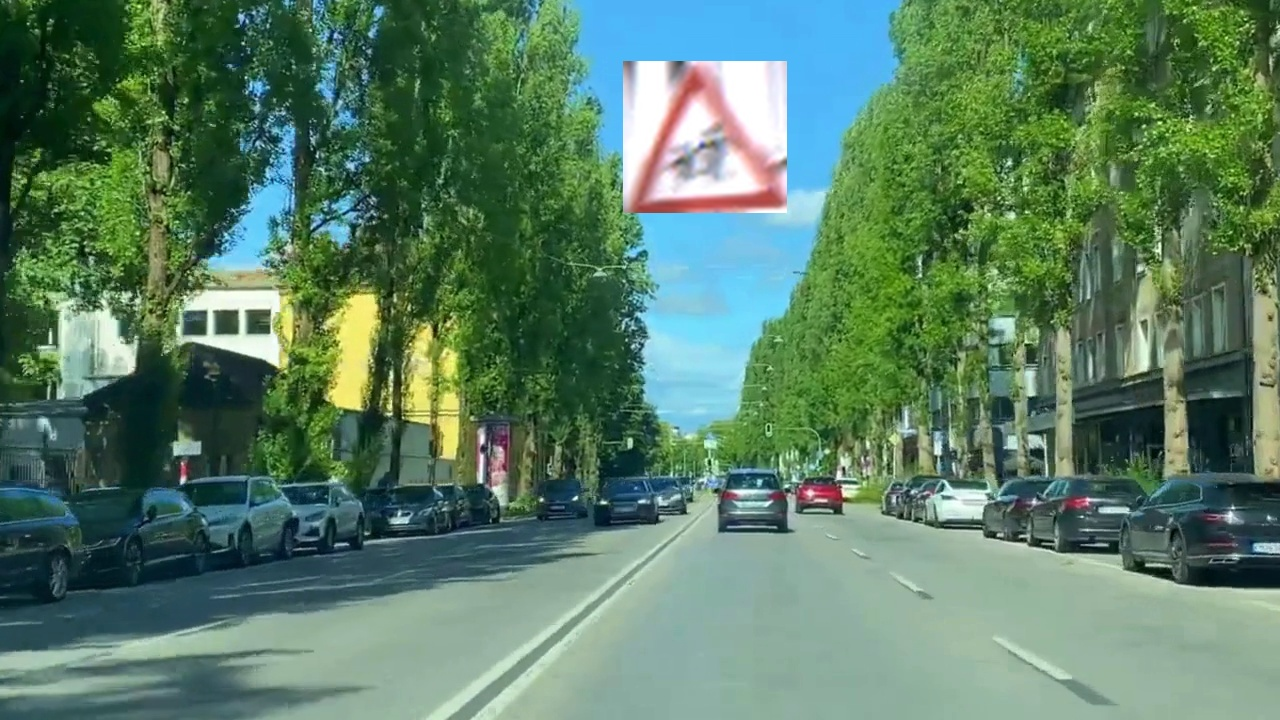Children: (623, 61, 787, 213)
